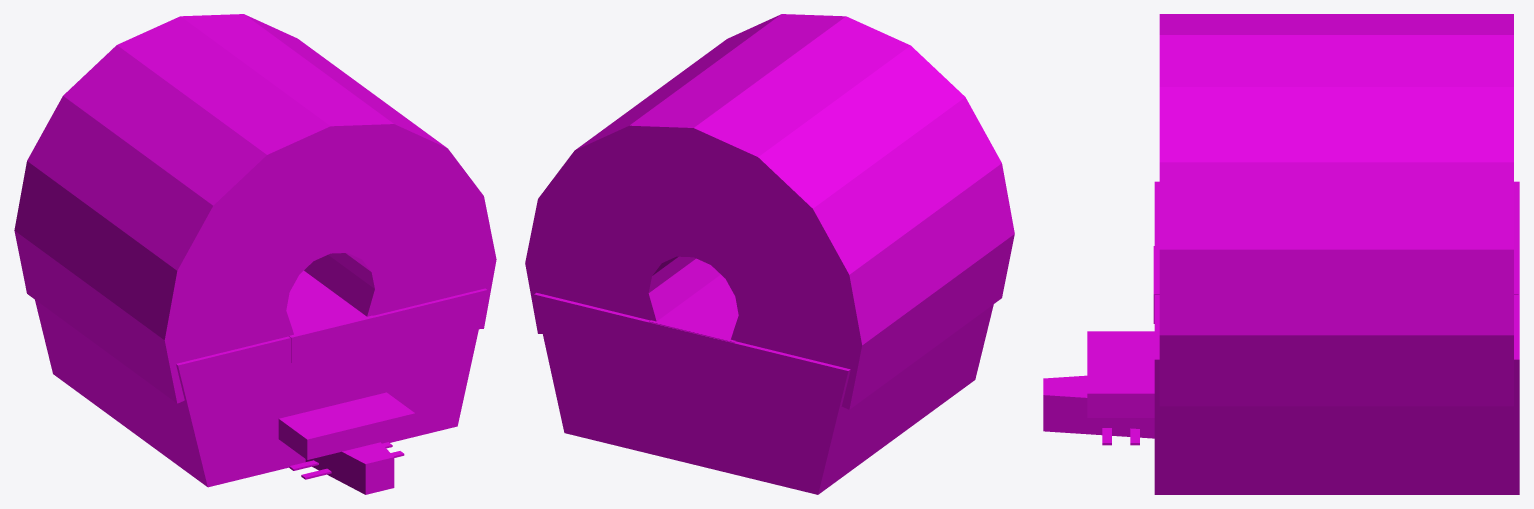
The model's file is SM_MRIBodyCollider.fbx.
The picture shows the model from 3 angles, left to right: view 1: azimuth 30°, elevation 25°; view 2: azimuth 150°, elevation 25°; view 3: azimuth 270°, elevation 25°; orthographic projection. The views are drawn at different scales.
Visible parts, largest first — view 1: MRIBodyCollision; view 2: MRIBodyCollision; view 3: MRIBodyCollision.
Part boxes in pixels (left/top/right/bottom): MRIBodyCollision: left=14, top=14, right=496, bottom=494; MRIBodyCollision: left=525, top=14, right=1014, bottom=494; MRIBodyCollision: left=1043, top=14, right=1519, bottom=494.
Size of the model in its own units: 231 by 218 by 243.
